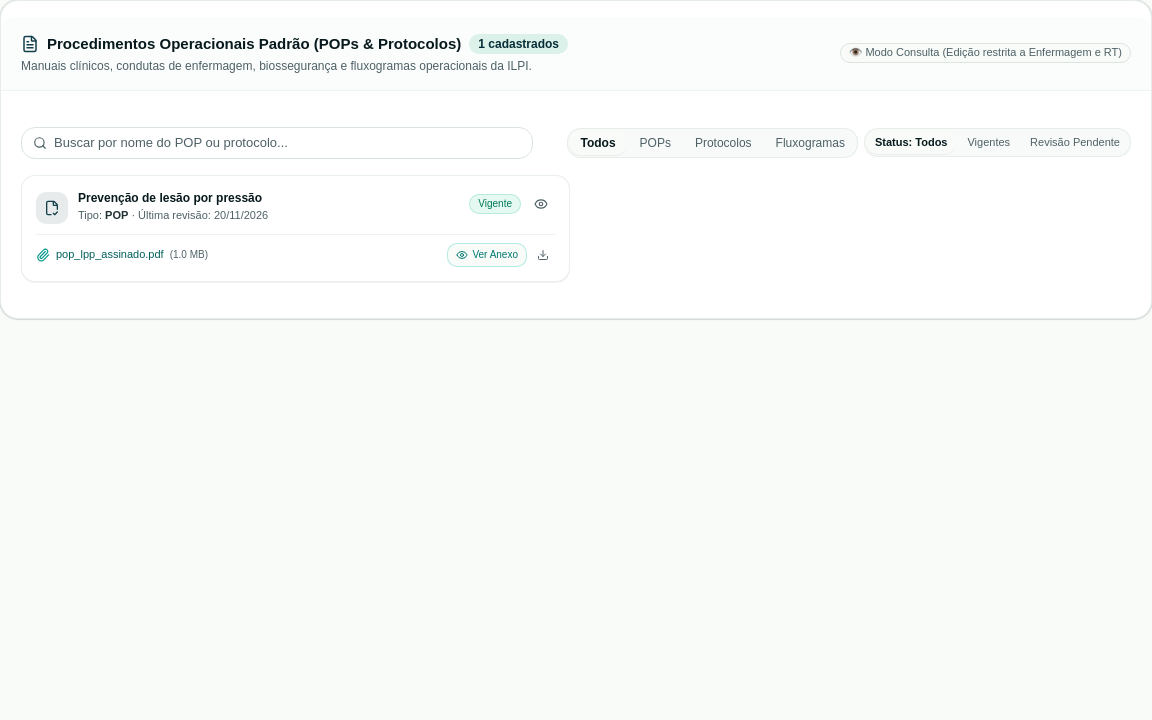
Scenario: SecaoPops Component (POPs & Protocolos) › exibe anexo digitalizado no procedimento quando disponível para a fiscalização
Expected: the text "pop_lpp_assinado.pdf" is shown, [56,247,164,262]
Expected: the button "Ver Anexo" is shown, [447,242,527,266]
# Ao clicar para abrir o procedimento completo, exibe a seção de via oficial da Vigilância
Click the text "Prevenção de lesão por pressão": (173, 198) [78,190,268,206]
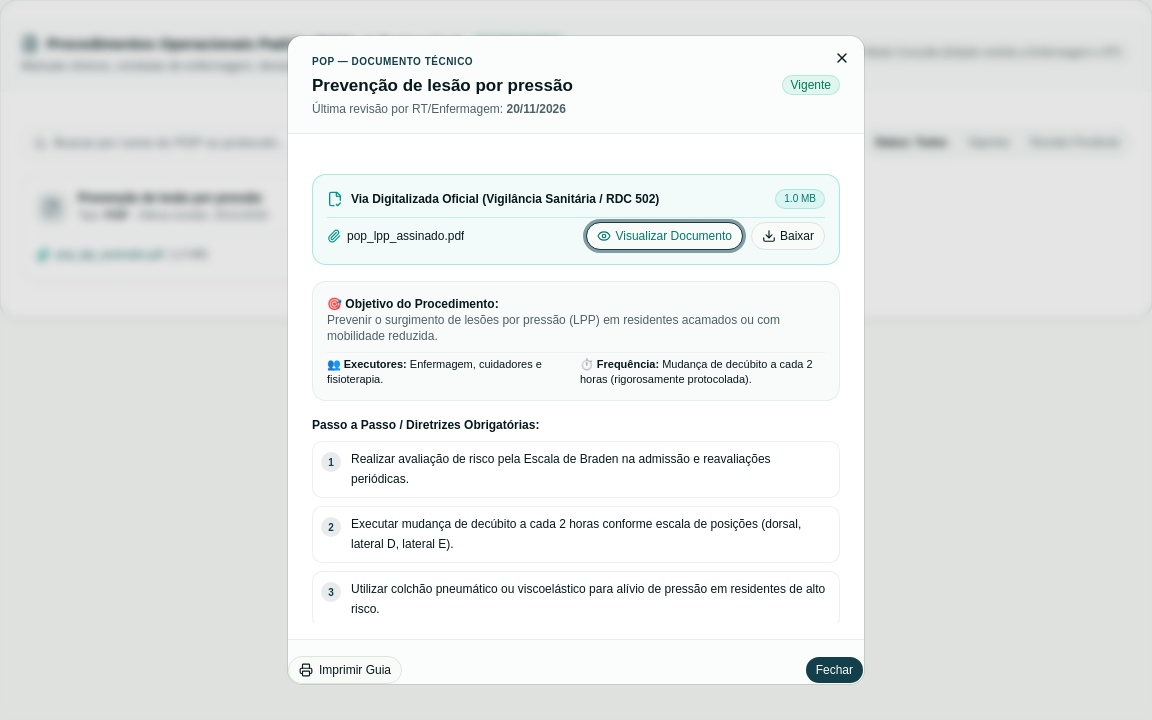
Now the text "Via Digitalizada Oficial (Vigilância Sanitária / RDC 502)" is shown, box [351,191,659,207]
